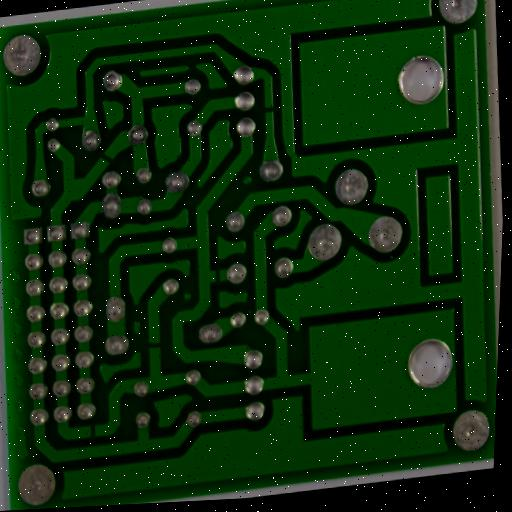open_circuit: (98, 147, 120, 166), (144, 337, 166, 354), (211, 264, 225, 286), (86, 421, 102, 440), (262, 102, 277, 117)
